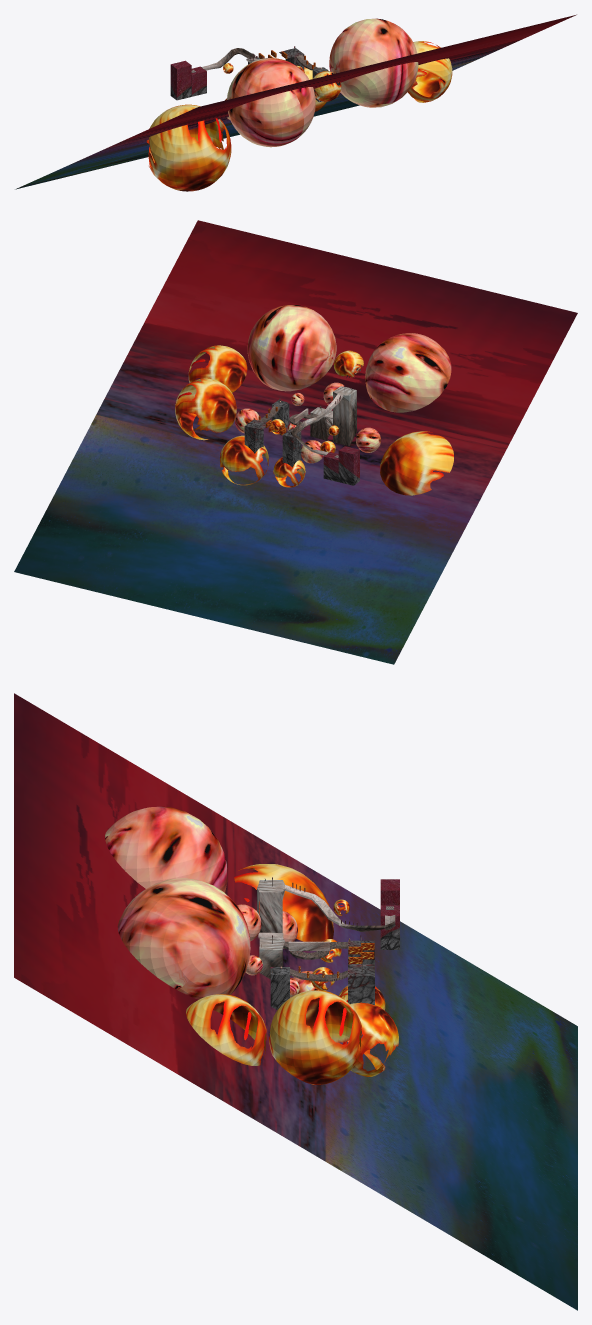
The model's file is nightmare_plane-exHbS4ED.glb.
3 views of the same model, one above another, from view 1: azimuth 30°, elevation 25°; view 2: azimuth 150°, elevation 25°; view 3: azimuth 270°, elevation 25° (orthographic). The views are drawn at different scales.
Parts seen in each view (by area): view 1: decoration, Plane, course.solid.{}; view 2: Plane, decoration, course.solid.{}; view 3: Plane, decoration, course.solid.{}.
Boxes of the visible parts, bbox=[...] form: decoration: bbox=[146, 18, 452, 191]; Plane: bbox=[15, 14, 576, 189]; course.solid.{}: bbox=[170, 48, 329, 102]; Plane: bbox=[14, 220, 577, 664]; decoration: bbox=[175, 305, 453, 495]; course.solid.{}: bbox=[244, 386, 359, 485]; Plane: bbox=[14, 693, 577, 1310]; decoration: bbox=[105, 806, 398, 1084]; course.solid.{}: bbox=[257, 879, 399, 1031].
Bounding box in the file's own units: 618 × 338 × 518.
2 materials, 2 textured.
